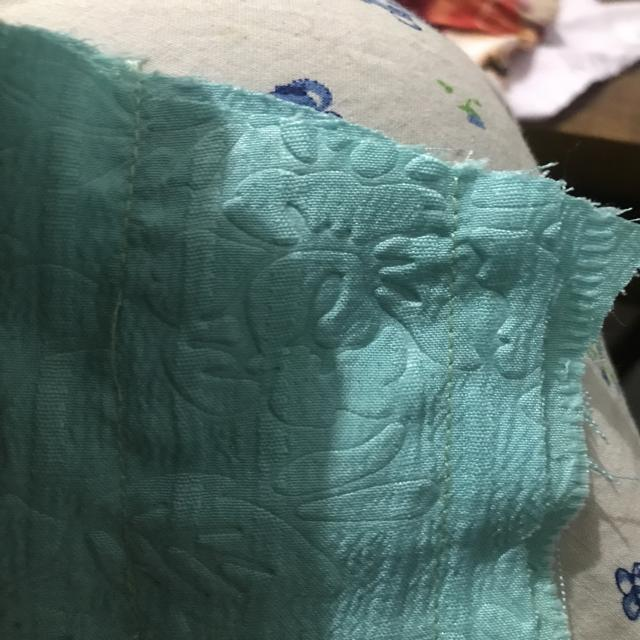good: (122, 148, 142, 228)
skip: (86, 272, 151, 419)
